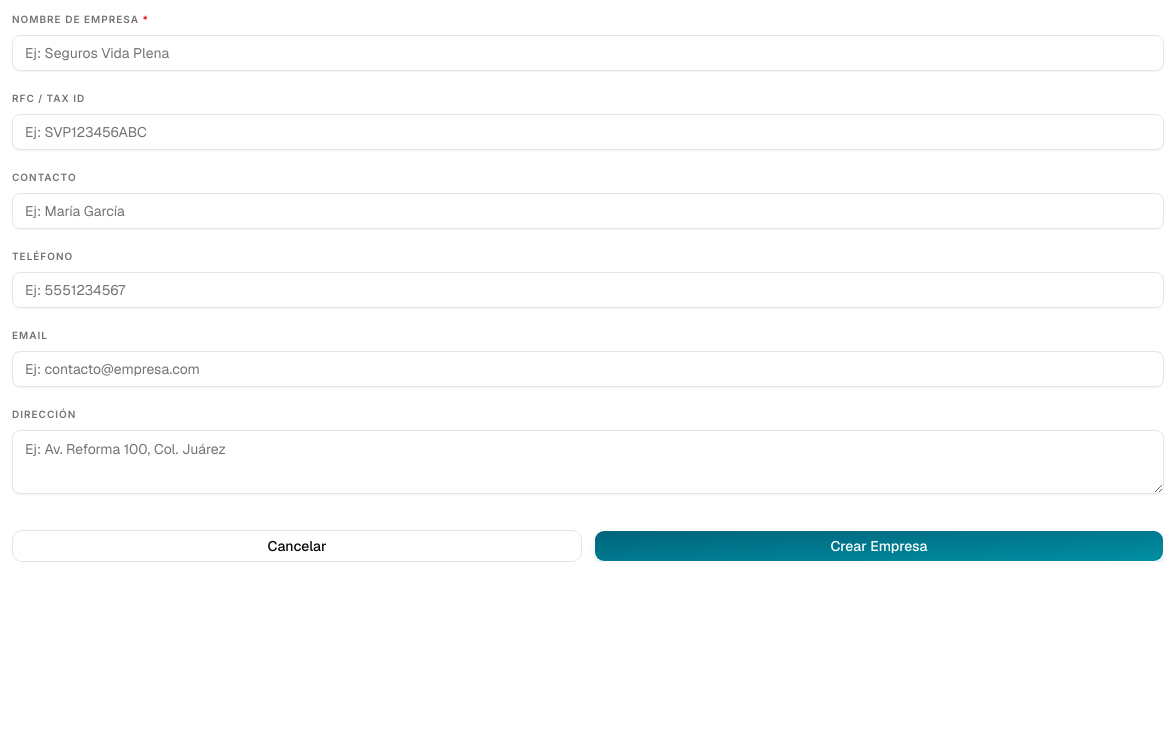
Test case: CompanyForm › shows validation error when name is empty on submit
The width and height of the screenshot is (1176, 732).
Click the button "Crear Empresa". click: (879, 546)
box: [594, 530, 1164, 562]
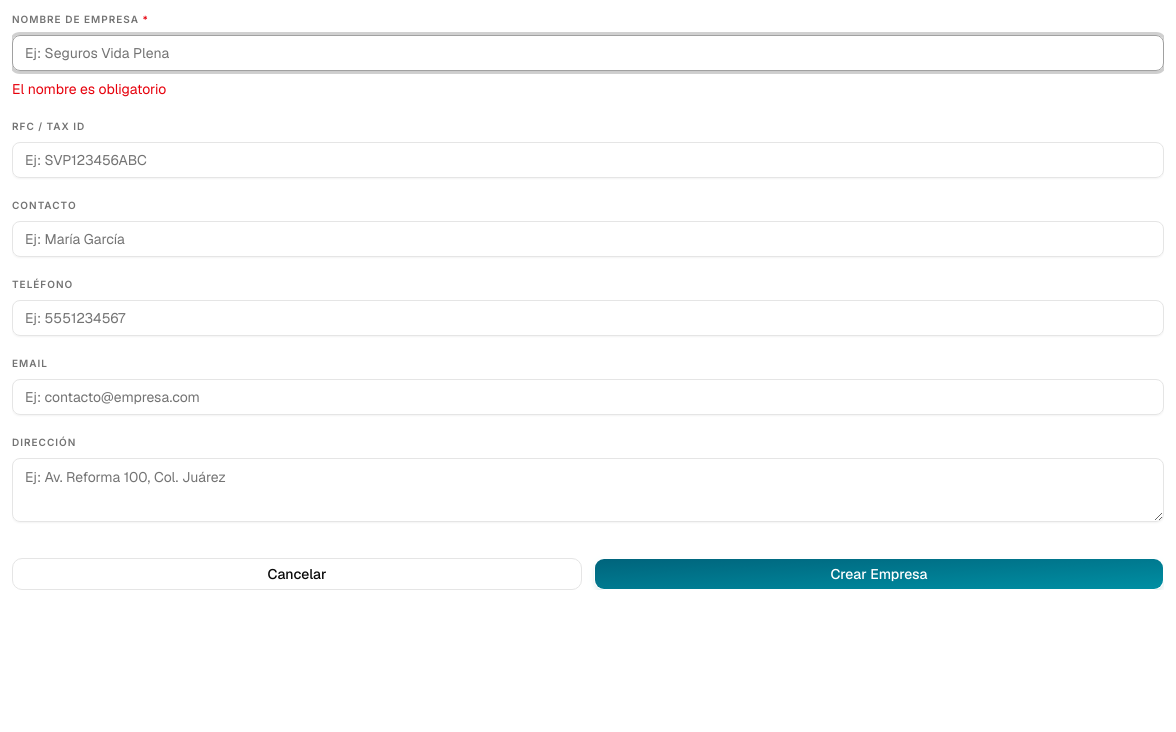
Check: the text "El nombre es obligatorio" is shown, box [12, 80, 166, 98]
